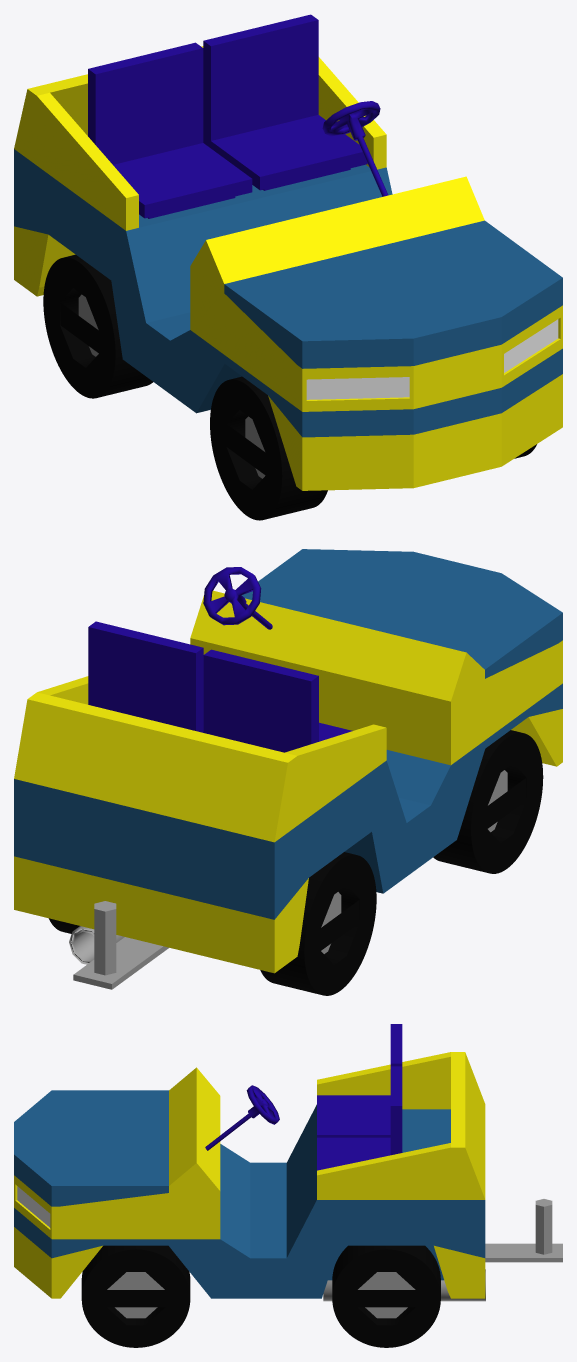
Rendered from LuggerMainChassis.fbx.
The picture shows the model from 3 angles, top to bottom: view 1: azimuth 30°, elevation 25°; view 2: azimuth 150°, elevation 25°; view 3: azimuth 270°, elevation 25°; orthographic projection. The views are drawn at different scales.
Visible parts, largest first — view 1: LuggerMainChassis, Hood, EngineBay, DriverSeat, PassengerSeat, FrontBumper, BackBrace, FrontRightWheel, RearRightWheel, FrontGrill, BackBumper, RightHeadlight (+2 smaller); view 2: LuggerMainChassis, BackBrace, EngineBay, Hood, BackBumper, PassengerSeat, DriverSeat, RearRightWheel, FrontRightWheel, CartPuller, SteeringWheel, FrontBumper (+1 smaller); view 3: LuggerMainChassis, Hood, BackBrace, EngineBay, RearLeftWheel, FrontLeftWheel, PassengerSeat, DriverSeat, FrontBumper, CartPuller, BackBumper, FrontGrill (+3 smaller).
Part boxes in pixels (x1,y1,x2,y2): LuggerMainChassis: [14, 149, 562, 437]; Hood: [224, 220, 562, 368]; EngineBay: [190, 176, 484, 407]; DriverSeat: [203, 14, 367, 190]; PassengerSeat: [88, 42, 252, 218]; FrontBumper: [268, 374, 562, 490]; BackBrace: [14, 46, 386, 230]; FrontRightWheel: [210, 376, 327, 520]; RearRightWheel: [43, 254, 152, 398]; FrontGrill: [297, 305, 562, 411]; BackBumper: [14, 226, 75, 296]; RightHeadlight: [306, 377, 409, 399]; LuggerMainChassis: [14, 683, 562, 919]; BackBrace: [14, 676, 386, 842]; EngineBay: [190, 590, 558, 765]; Hood: [241, 549, 562, 678]; BackBumper: [14, 856, 308, 973]; PassengerSeat: [203, 649, 352, 752]; DriverSeat: [88, 621, 203, 732]; RearRightWheel: [260, 852, 376, 995]; FrontRightWheel: [433, 730, 543, 873]; CartPuller: [73, 901, 168, 989]; SteeringWheel: [203, 567, 272, 629]; FrontBumper: [511, 709, 562, 766]; LuggerMainChassis: [14, 1104, 485, 1298]; Hood: [14, 1090, 168, 1206]; BackBrace: [317, 1052, 485, 1199]; EngineBay: [58, 1067, 220, 1239]; RearLeftWheel: [332, 1245, 440, 1347]; FrontLeftWheel: [81, 1245, 190, 1347]; PassengerSeat: [317, 1024, 402, 1137]; DriverSeat: [317, 1066, 402, 1170]; FrontBumper: [14, 1227, 102, 1298]; CartPuller: [485, 1199, 562, 1262]; BackBumper: [434, 1245, 485, 1298]; FrontGrill: [14, 1175, 58, 1239].
Size of the model in its own units: 65.64 by 75.08 by 159.
1 material, 1 textured.
